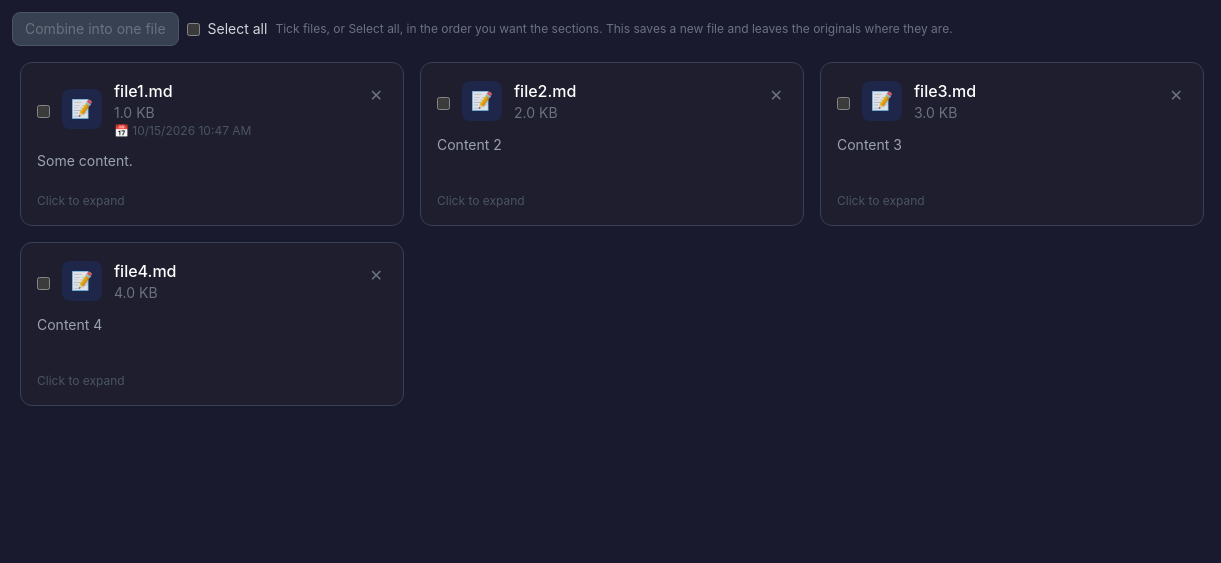
Scenario: FileList Virtualization › expands preview when a file is clicked
What coordinates should you click on to do the following:
click the button "file1.md"
I would click on:
 (82, 109)
Its box is [20,62,404,226].
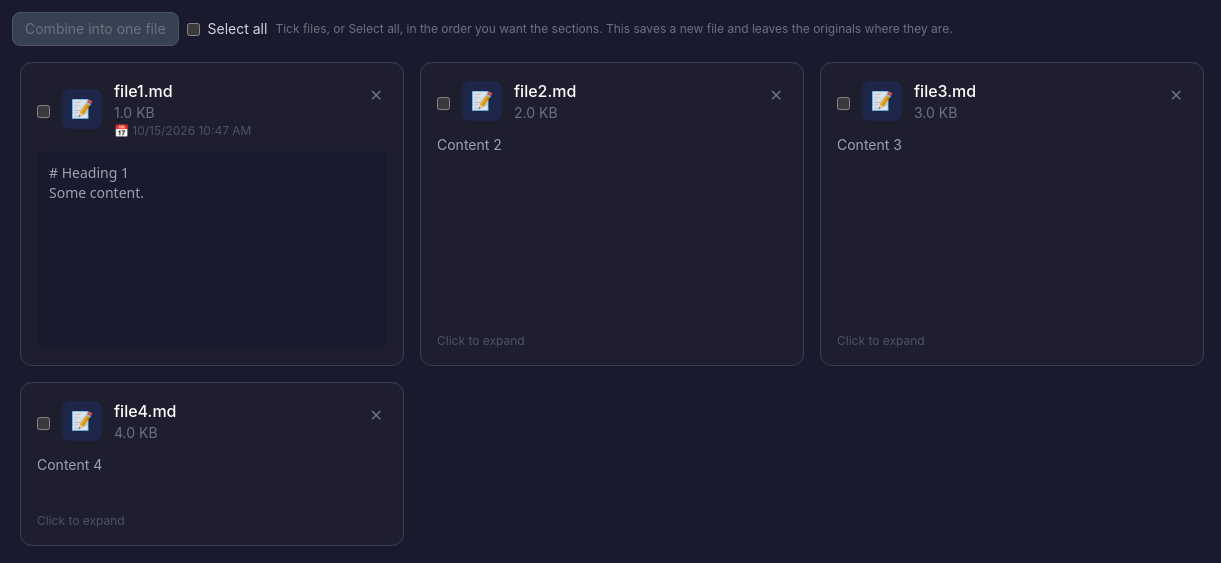
Now the text "# Heading 1 Some content." is shown, box [37,151,387,349]
